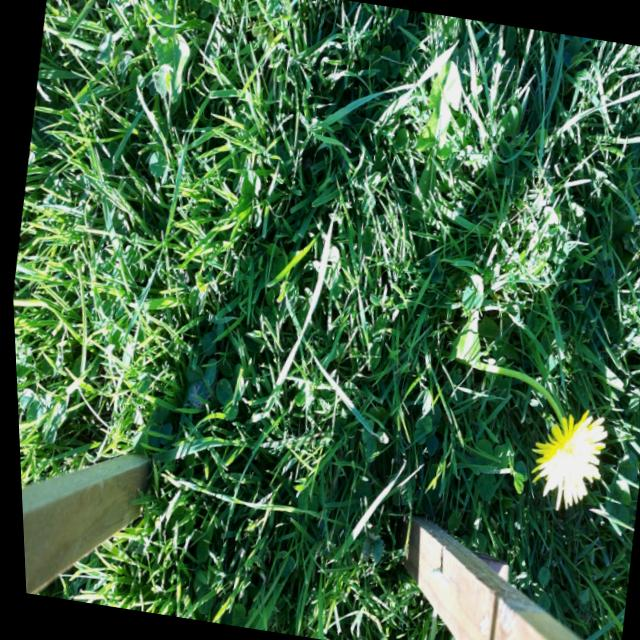base: (420, 324, 467, 386)
